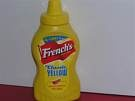grozi_40: (30, 0, 79, 101)
